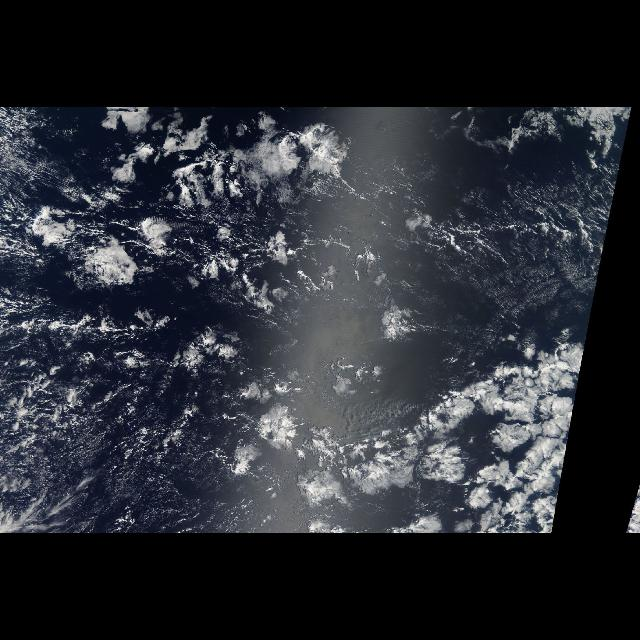Flower: (28, 107, 410, 287), (137, 310, 423, 520)
Gravel: (2, 310, 250, 528), (412, 162, 622, 322)
